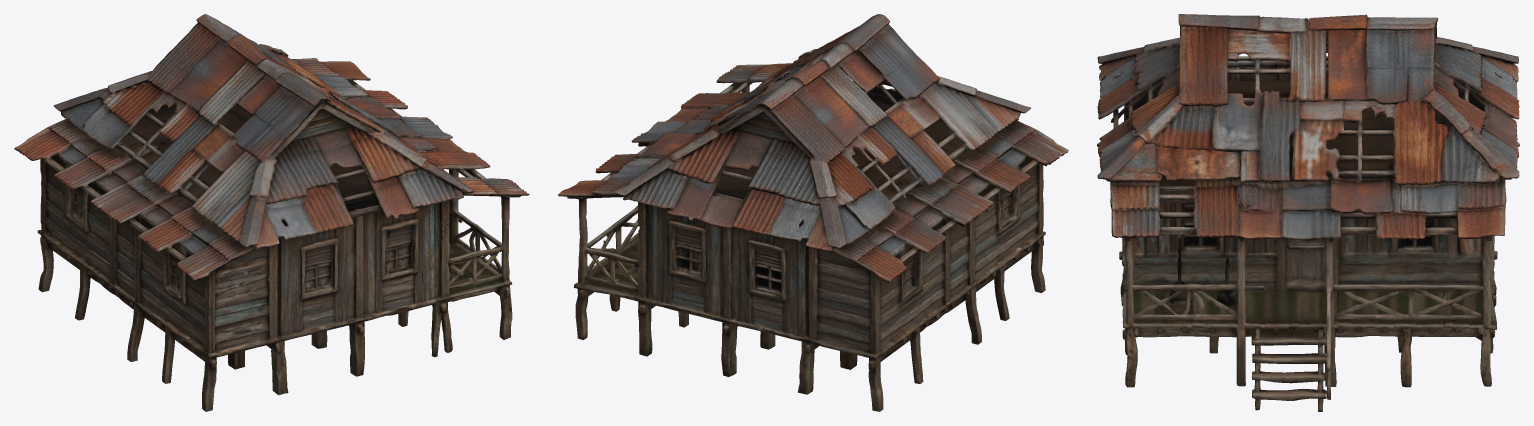
The model's file is wooden_house_with_rusty_roof_3d_model_free.glb.
3 views of the same model, side by side, from view 1: azimuth 30°, elevation 25°; view 2: azimuth 150°, elevation 25°; view 3: azimuth 270°, elevation 25° (orthographic). The views are drawn at different scales.
Parts seen in each view (by area): view 1: tripo_node_ab7a4f25-1aaa-4b91-adc5-c4f67217fb8d_0; view 2: tripo_node_ab7a4f25-1aaa-4b91-adc5-c4f67217fb8d_0; view 3: tripo_node_ab7a4f25-1aaa-4b91-adc5-c4f67217fb8d_0.
Boxes of the visible parts, <box> form: tripo_node_ab7a4f25-1aaa-4b91-adc5-c4f67217fb8d_0: <box>14,14,529,411</box>; tripo_node_ab7a4f25-1aaa-4b91-adc5-c4f67217fb8d_0: <box>558,14,1068,411</box>; tripo_node_ab7a4f25-1aaa-4b91-adc5-c4f67217fb8d_0: <box>1097,14,1519,411</box>.
Size of the model in its own units: 1 by 0.674 by 0.9033.
Materials: 1 (1 with a texture image).
